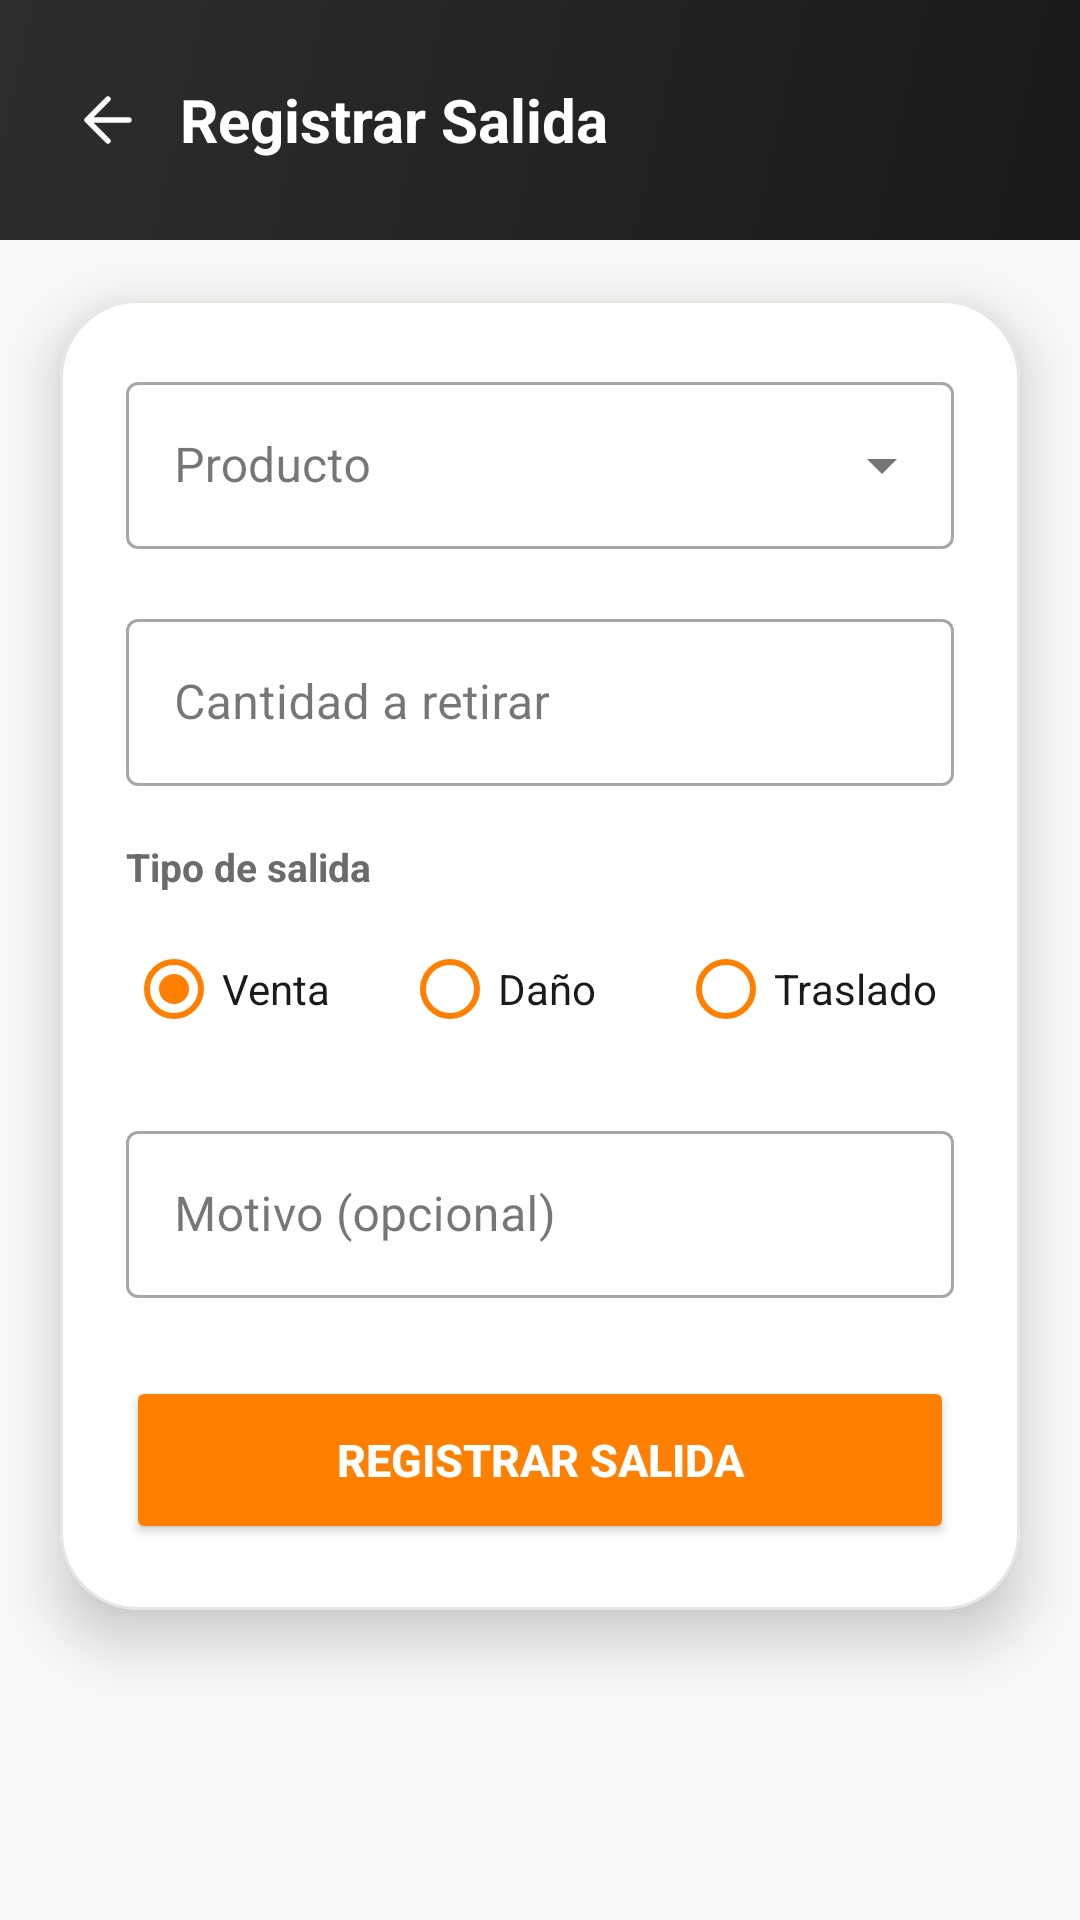

Named icons in this screenshot (1080×1920) and their bounding boxes, (x1, y1, x2, y2):
Volver: (84, 96, 132, 144)
